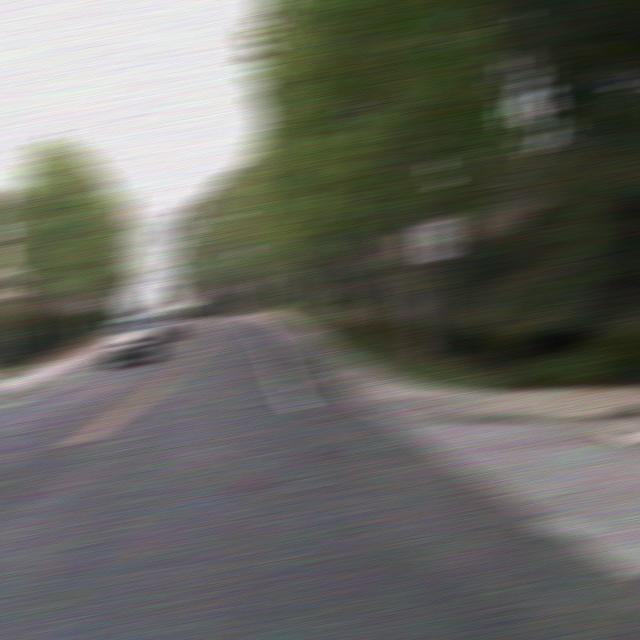speedLimit35: (418, 217, 456, 260)
